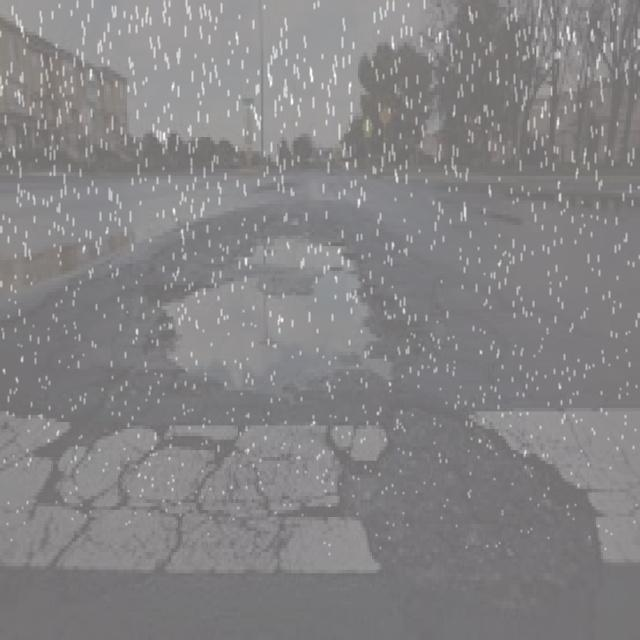Pothole: (147, 202, 397, 404), (0, 224, 142, 310)
